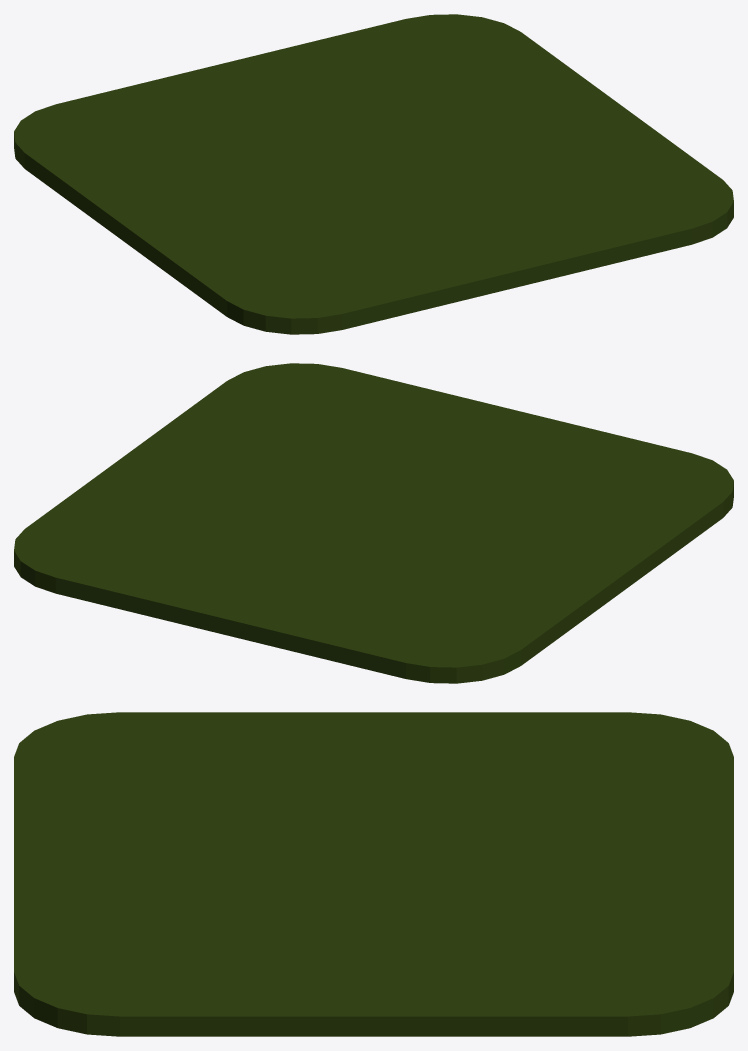
File: esc.glb
The picture shows the model from 3 angles, top to bottom: view 1: azimuth 30°, elevation 25°; view 2: azimuth 150°, elevation 25°; view 3: azimuth 270°, elevation 25°; orthographic projection. The views are drawn at different scales.
Visible parts, largest first — view 1: FlightController00.001; view 2: FlightController00.001; view 3: FlightController00.001.
Part boxes in pixels (x1,y1,x2,y2): FlightController00.001: [14, 14, 733, 334]; FlightController00.001: [14, 363, 733, 683]; FlightController00.001: [14, 712, 733, 1036].
Bounding box in the file's own units: 0.0303 × 0.000938 × 0.0303.
